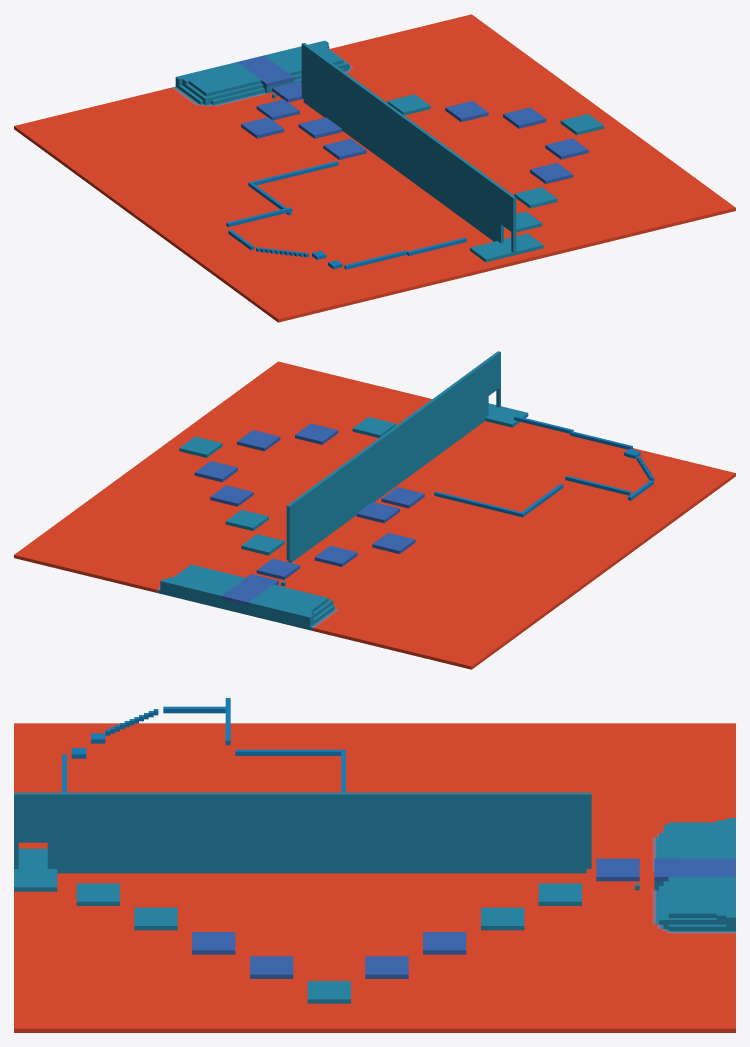
The model's file is lave.dae.
3 renders of one model, top to bottom at view 1: azimuth 30°, elevation 25°; view 2: azimuth 150°, elevation 25°; view 3: azimuth 270°, elevation 25°, orthographic. The views are drawn at different scales.
Parts seen in each view (by area): view 1: JumpQuest, JumpQuest_1, JumpQuest_2, JumpQuest_3; view 2: JumpQuest, JumpQuest_1, JumpQuest_2, JumpQuest_3; view 3: JumpQuest, JumpQuest_2, JumpQuest_1, JumpQuest_3.
Part boxes in pixels (x1,y1,x2,y2): JumpQuest: (14,30,629,293); JumpQuest_1: (239,169,668,322); JumpQuest_2: (405,14,696,195); JumpQuest_3: (630,179,735,227); JumpQuest: (81,379,697,669); JumpQuest_1: (307,351,735,504); JumpQuest_2: (14,390,306,574); JumpQuest_3: (240,361,344,405); JumpQuest: (120,698,735,983); JumpQuest_2: (120,970,735,1032); JumpQuest_1: (14,723,119,983); JumpQuest_3: (14,983,119,1032).
Size of the model in its own units: 150 by 21 by 150.
Materials: 1 (1 with a texture image).
